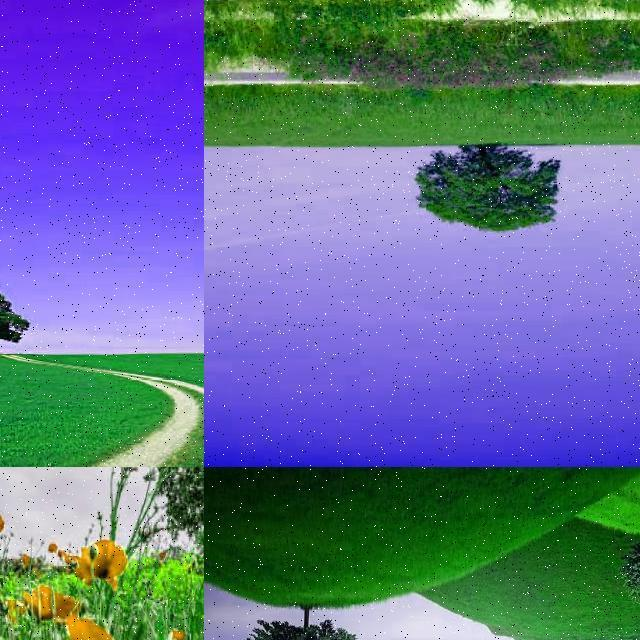tree: (424, 146, 558, 236), (140, 467, 204, 635), (0, 270, 70, 354), (244, 600, 364, 640), (616, 537, 640, 609)
